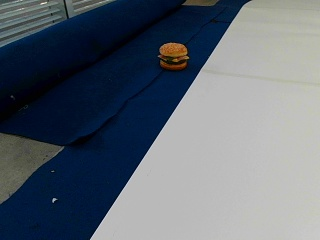burger: (157, 41, 188, 69)
